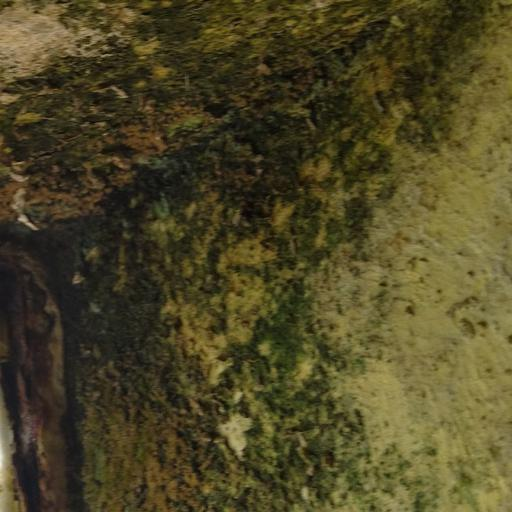algae: (33, 5, 512, 512)
